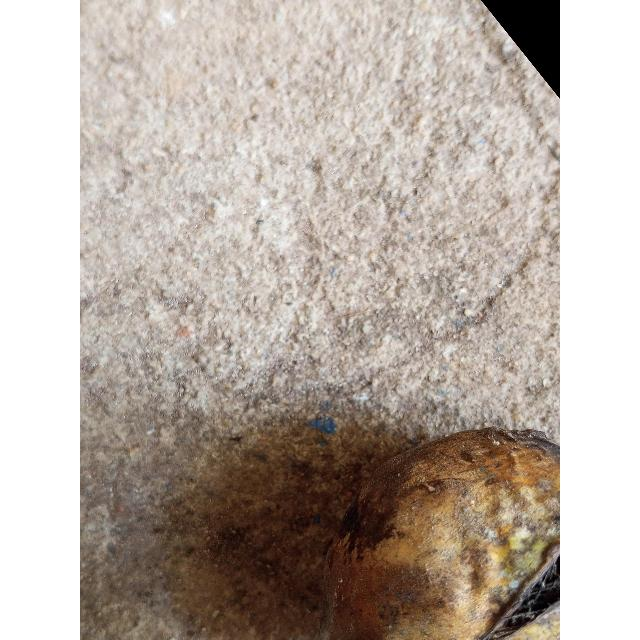damaged: (322, 429, 560, 640)
